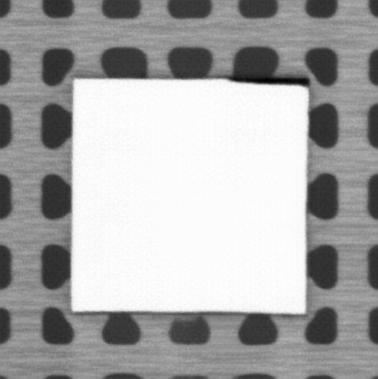DIE_BROKEN: (226, 74, 311, 88)
